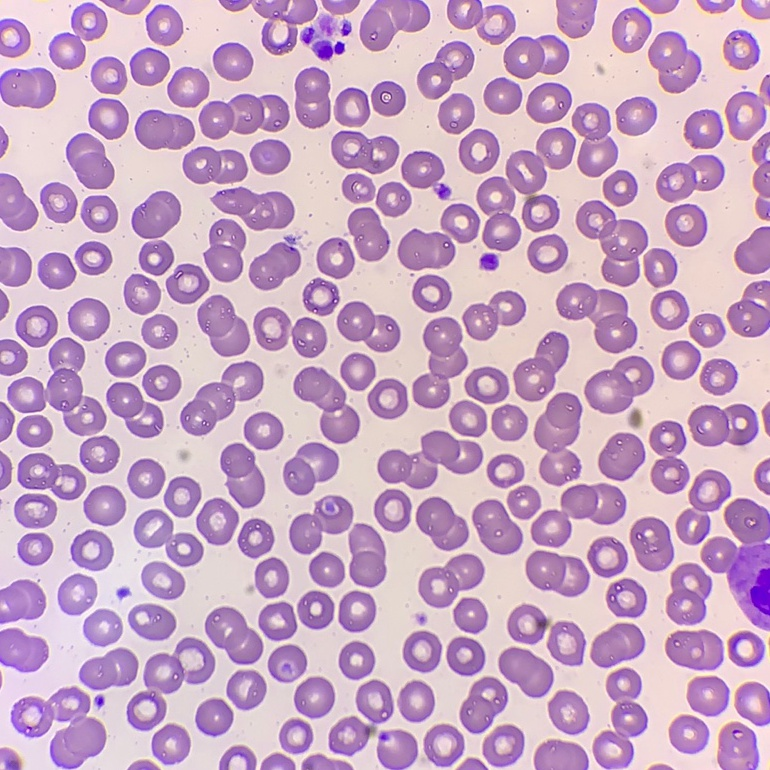RBC: (477, 128, 574, 250), (8, 338, 105, 434), (702, 498, 769, 624), (127, 637, 214, 729), (16, 688, 105, 766), (576, 201, 647, 285), (181, 362, 263, 434), (378, 431, 481, 488), (532, 484, 624, 546), (557, 283, 636, 352), (593, 668, 646, 768), (398, 204, 479, 269), (294, 367, 359, 443), (413, 317, 467, 407), (508, 605, 583, 664), (535, 393, 581, 484), (199, 94, 288, 138), (676, 470, 729, 543), (585, 356, 652, 413), (135, 509, 202, 565), (514, 332, 568, 400), (289, 495, 352, 553), (50, 4, 106, 68), (360, 0, 429, 50), (419, 554, 483, 606), (256, 0, 316, 54), (214, 188, 293, 229), (572, 103, 616, 176), (205, 607, 262, 663), (417, 42, 473, 98), (18, 453, 85, 499), (107, 382, 163, 437), (649, 32, 700, 92), (198, 295, 249, 355), (337, 302, 399, 351), (657, 155, 723, 201), (447, 0, 514, 43), (463, 292, 524, 339), (331, 131, 398, 173), (283, 443, 338, 494), (526, 551, 588, 596), (221, 443, 264, 507), (689, 404, 756, 445), (726, 76, 769, 139), (416, 497, 468, 549), (650, 421, 688, 492), (504, 35, 568, 77), (460, 677, 507, 732), (667, 563, 710, 623), (473, 500, 521, 553), (499, 648, 552, 696), (67, 134, 113, 188), (205, 219, 245, 281), (249, 243, 300, 289), (183, 147, 246, 183), (132, 191, 180, 238), (728, 281, 769, 336), (591, 623, 643, 666), (349, 524, 385, 586), (136, 110, 194, 148), (82, 648, 137, 688), (630, 518, 672, 570), (402, 151, 448, 198), (666, 630, 721, 669), (1, 68, 55, 107), (348, 208, 388, 260), (0, 174, 37, 230), (599, 433, 644, 479), (295, 68, 330, 127), (0, 628, 48, 670), (0, 580, 45, 622), (197, 498, 238, 544), (718, 722, 757, 769), (329, 717, 376, 753), (68, 298, 109, 339), (527, 83, 570, 122), (459, 129, 498, 172), (612, 8, 650, 52), (84, 485, 125, 525), (166, 264, 208, 303), (548, 691, 587, 733), (129, 604, 175, 639), (483, 725, 523, 765), (167, 67, 208, 106), (666, 205, 705, 246), (71, 530, 112, 569), (735, 227, 769, 273), (17, 306, 56, 346), (687, 676, 727, 715), (295, 677, 334, 717), (424, 724, 463, 764), (465, 367, 508, 403), (534, 740, 587, 769), (89, 99, 128, 138), (368, 379, 407, 418), (377, 730, 417, 768), (374, 489, 410, 531), (142, 562, 184, 598), (588, 537, 626, 576), (227, 670, 266, 708), (403, 631, 440, 671), (152, 723, 189, 763), (356, 680, 392, 721), (398, 680, 434, 721), (58, 575, 96, 613), (556, 0, 595, 37), (213, 43, 252, 80), (616, 97, 655, 134), (528, 235, 567, 272), (651, 290, 688, 329), (80, 436, 119, 473), (339, 591, 375, 631), (254, 308, 289, 349), (735, 682, 769, 724), (662, 341, 699, 379), (244, 412, 282, 449), (607, 579, 645, 616), (317, 238, 353, 277), (124, 274, 160, 313), (164, 477, 200, 516), (259, 602, 296, 639), (447, 637, 484, 674), (669, 715, 706, 752), (146, 6, 182, 44), (131, 49, 169, 85), (685, 110, 721, 148), (128, 459, 164, 497), (268, 645, 306, 681), (439, 94, 474, 133), (41, 183, 76, 222), (106, 341, 145, 376), (413, 275, 450, 311), (297, 591, 333, 628), (334, 88, 369, 126), (238, 519, 273, 557), (292, 318, 326, 357), (15, 494, 56, 526), (196, 698, 232, 734), (484, 78, 521, 113), (143, 365, 180, 400), (251, 140, 289, 174), (255, 558, 288, 597), (91, 57, 126, 93), (450, 401, 486, 436), (339, 642, 374, 678), (341, 353, 375, 390), (303, 279, 338, 314), (701, 359, 736, 394), (492, 405, 527, 440), (724, 31, 756, 69), (40, 253, 74, 288), (309, 552, 344, 586), (88, 609, 122, 644), (84, 196, 117, 232), (644, 249, 676, 286), (0, 248, 31, 286), (142, 315, 177, 348), (487, 454, 523, 486), (371, 82, 405, 115), (603, 171, 636, 205), (139, 241, 173, 274), (377, 182, 410, 215), (76, 242, 110, 274), (454, 598, 486, 632), (729, 631, 761, 665), (690, 314, 723, 346), (280, 719, 312, 752), (18, 533, 52, 564), (753, 133, 769, 197), (508, 486, 540, 518), (19, 415, 51, 446), (0, 23, 30, 56), (0, 340, 26, 374), (342, 174, 374, 201), (302, 755, 350, 769), (105, 0, 148, 14), (261, 754, 295, 769), (742, 0, 769, 18), (0, 403, 13, 439), (755, 460, 769, 493), (0, 748, 21, 769), (644, 0, 676, 13), (699, 0, 733, 12), (331, 0, 358, 14), (0, 454, 11, 488), (221, 0, 248, 10), (460, 758, 484, 769), (130, 760, 156, 769), (480, 254, 496, 268), (315, 46, 331, 59), (756, 200, 768, 217), (0, 293, 8, 317), (629, 411, 641, 426), (0, 130, 7, 153), (763, 406, 769, 430), (219, 758, 229, 769), (654, 765, 667, 769), (322, 0, 330, 4)
